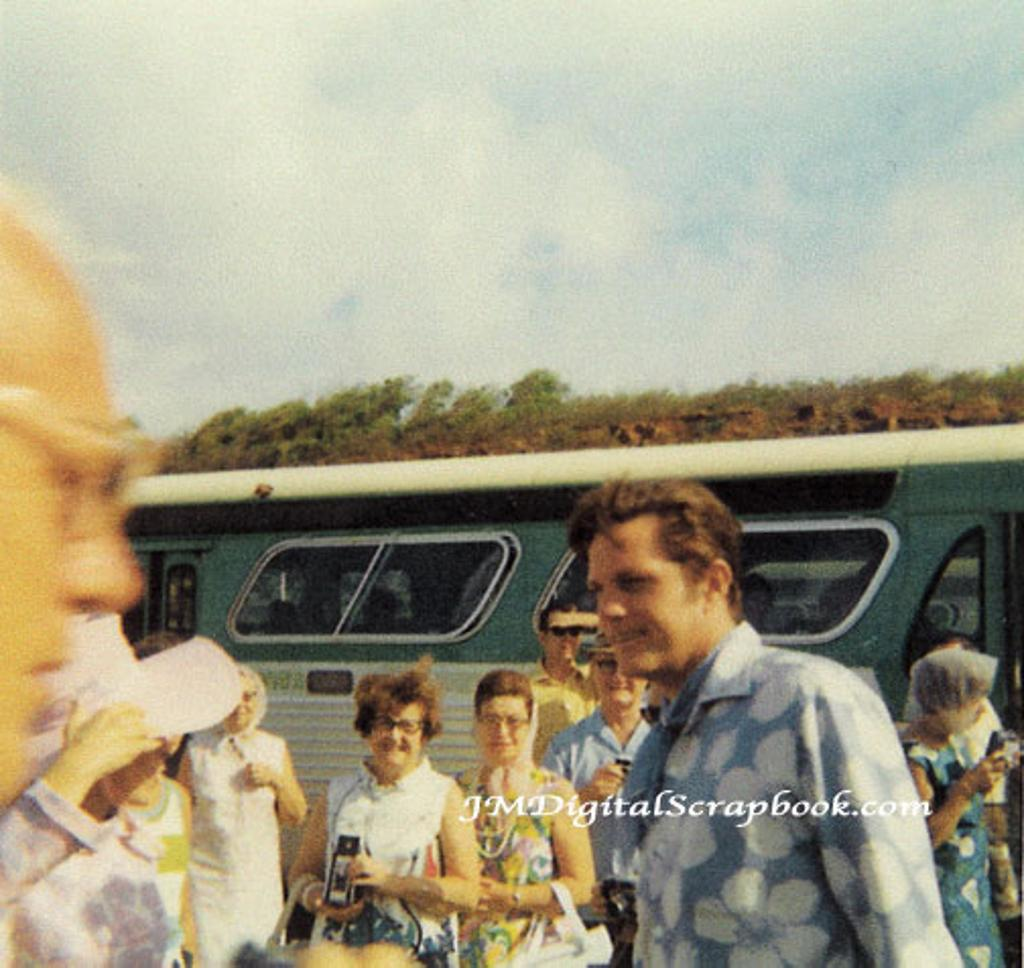face: (2, 261, 144, 800), (587, 517, 696, 671), (370, 704, 420, 768), (481, 696, 527, 760), (596, 652, 642, 703), (947, 682, 986, 735), (222, 675, 259, 730), (549, 614, 578, 658)
